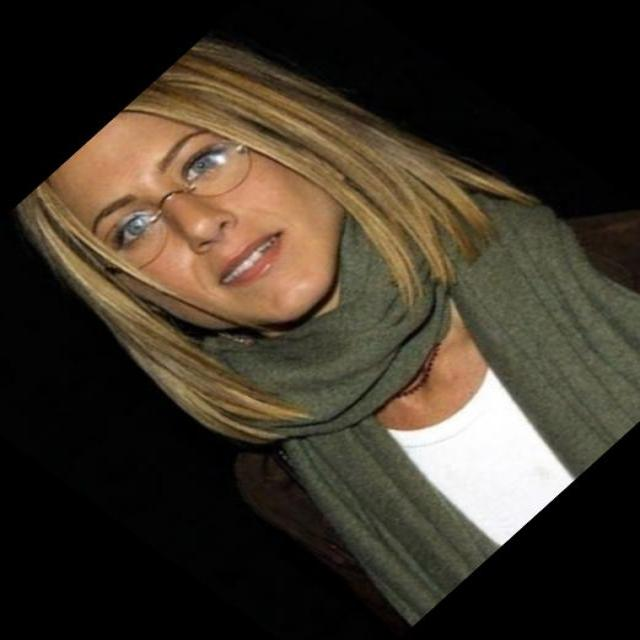glasses: (86, 130, 263, 280)
